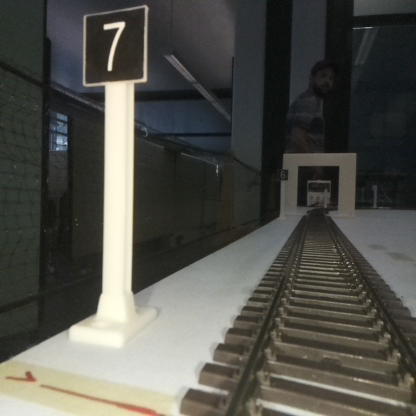black-info-6: (277, 169, 288, 220)
black-info-7: (84, 16, 143, 337)
